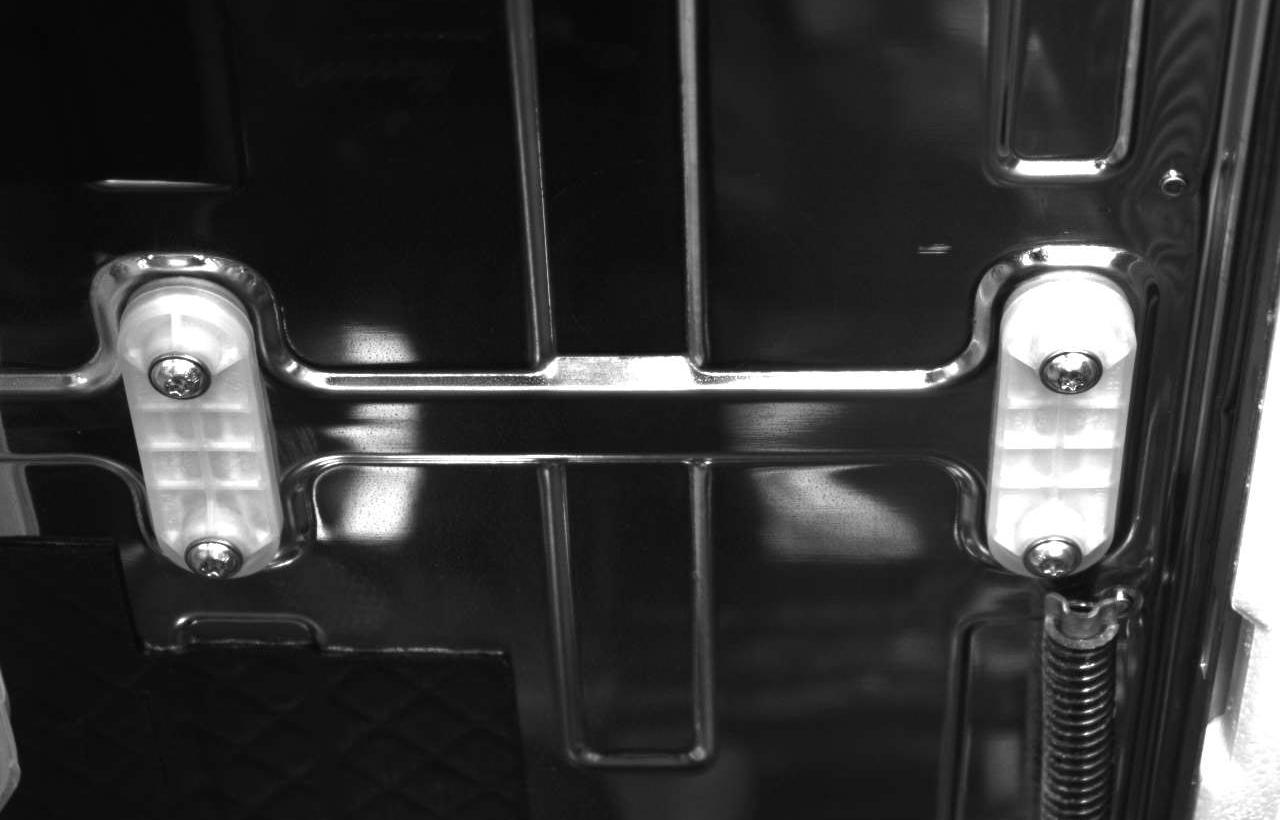vida-ok: (144, 345, 216, 412), (1039, 337, 1106, 404), (186, 525, 251, 584), (1019, 525, 1084, 584)
